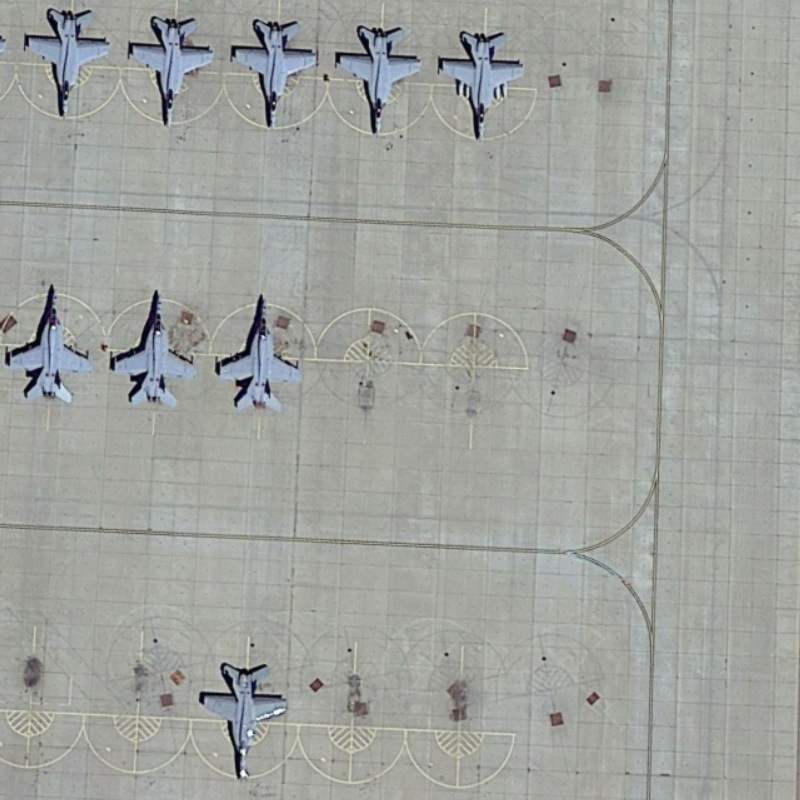A16: (331, 18, 428, 140), (106, 285, 199, 410), (212, 293, 307, 415), (431, 27, 529, 145), (197, 659, 290, 782), (21, 2, 116, 122), (3, 281, 94, 406), (125, 12, 219, 132), (226, 14, 319, 131)
